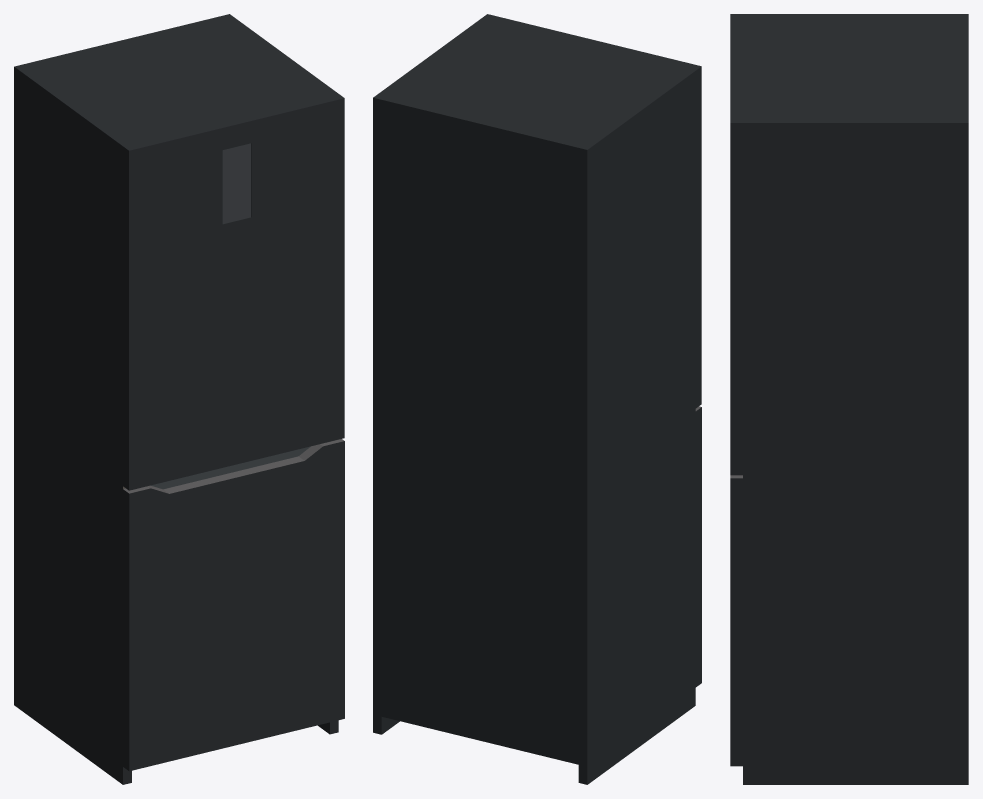
File: fridge_01_E.gltf
3 renders of one model, left to right at view 1: azimuth 30°, elevation 25°; view 2: azimuth 150°, elevation 25°; view 3: azimuth 270°, elevation 25°, orthographic. The views are drawn at different scales.
Parts seen in each view (by area): view 1: fridge_01_E, Doorfridgetop_01_E, Doorfridgebot_01_E; view 2: fridge_01_E, Doorfridgetop_01_E, Doorfridgebot_01_E; view 3: fridge_01_E, Doorfridgetop_01_E, Doorfridgebot_01_E.
Part boxes in pixels (left/top/right/bottom): fridge_01_E: left=14, top=14, right=338, bottom=784; Doorfridgetop_01_E: left=123, top=94, right=344, bottom=490; Doorfridgebot_01_E: left=123, top=439, right=344, bottom=771; fridge_01_E: left=373, top=18, right=695, bottom=784; Doorfridgetop_01_E: left=481, top=14, right=701, bottom=408; Doorfridgebot_01_E: left=695, top=406, right=701, bottom=687; fridge_01_E: left=743, top=14, right=968, bottom=784; Doorfridgetop_01_E: left=730, top=14, right=742, bottom=475; Doorfridgebot_01_E: left=730, top=475, right=742, bottom=766.
Bounding box in the file's own units: 0.8 × 2.26 × 0.7399.
Materials: 1 (1 with a texture image).
